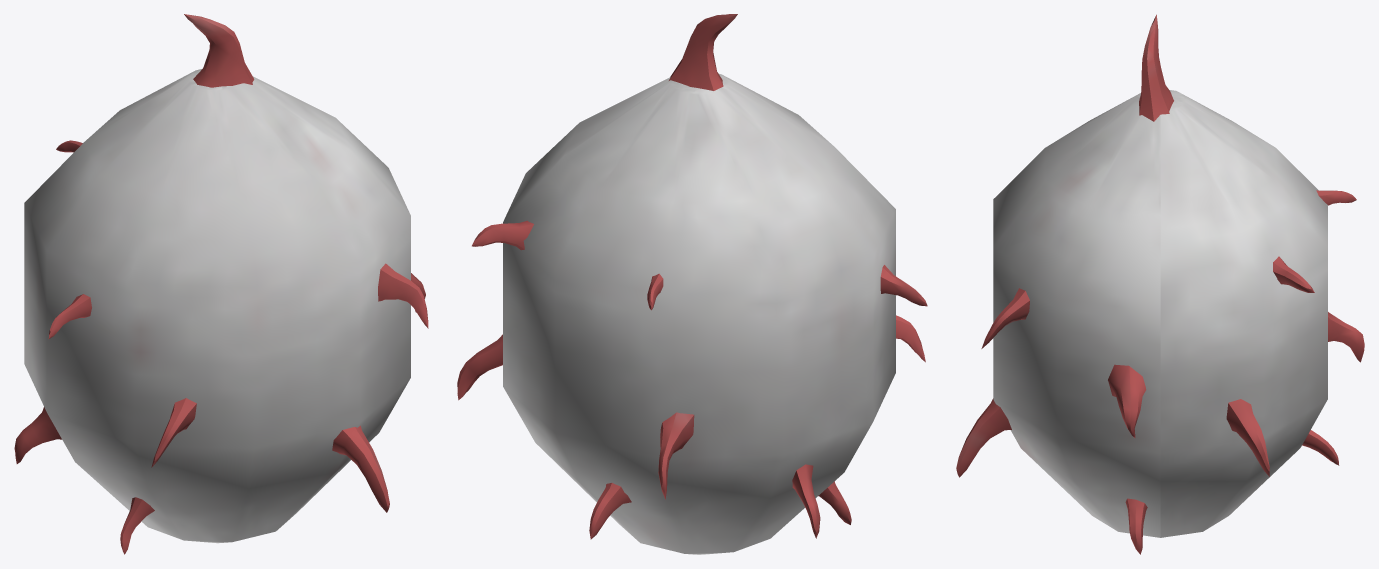
The model's file is Veg 1.fbx.
3 renders of one model, left to right at view 1: azimuth 30°, elevation 25°; view 2: azimuth 150°, elevation 25°; view 3: azimuth 270°, elevation 25°, orthographic. The views are drawn at different scales.
Visible parts, largest first — view 1: Veg_1_1; view 2: Veg_1_1; view 3: Veg_1_1.
Part boxes in pixels (x1=…): Veg_1_1: x1=14, y1=14, x2=428, y2=554; Veg_1_1: x1=457, y1=14, x2=927, y2=554; Veg_1_1: x1=956, y1=14, x2=1364, y2=554.
Size of the model in its own units: 25.51 by 33.85 by 24.75.
Materials: 1 (1 with a texture image).
